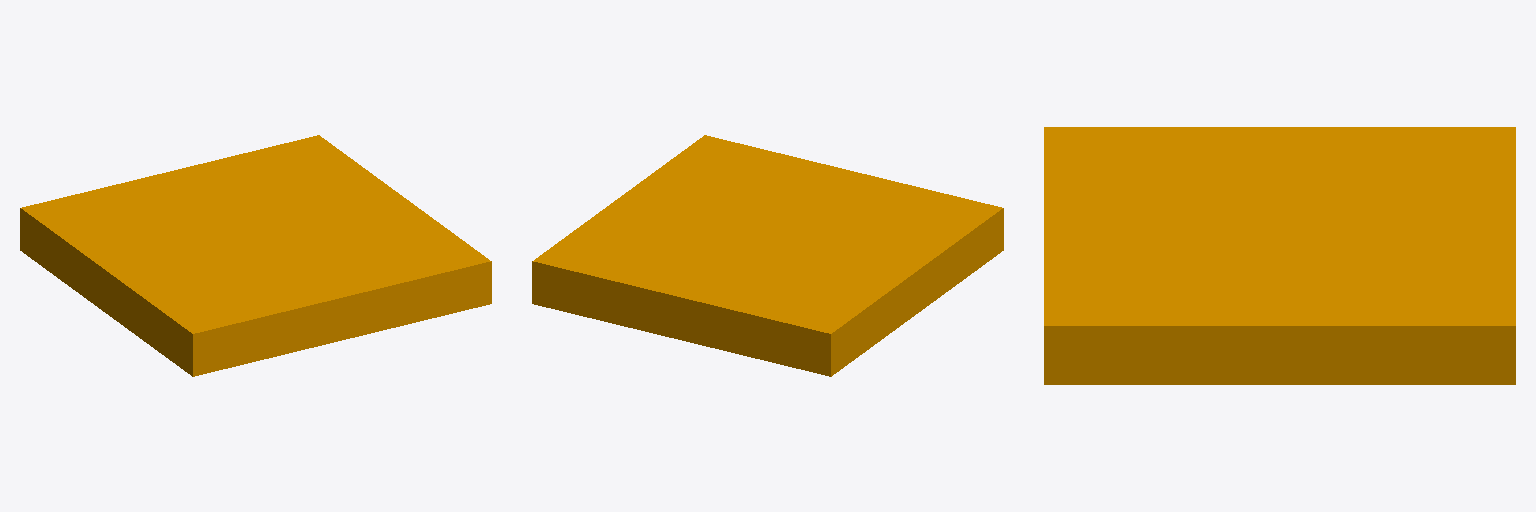
URDF robot description (apriltag_3_3611):
<robot name="apriltag_3_3611">

    <link name="apriltag_link_id3">
        <inertial>
            <origin xyz="0 0 0" rpy="0 0 0"/>
            <mass value="1.0"/>
            <inertia ixx="0.07461" ixy="0.0" ixz="0.0" iyy="0.5854" iyz="0.0" izz="0.02641"/>
        </inertial>
        <collision>
            <origin xyz="0 0 0" rpy="0 0 0"/>
            <geometry>
                <box size="0.2 0.2 0.1"/>
            </geometry>
        </collision>
        <visual>
            <origin xyz="0 0 0" rpy="0 0 0"/>
            <geometry>
                <mesh filename="package://apriltag_description/meshes/apriltag_3.dae"/>
            </geometry>
        </visual>
    </link>
    
    <gazebo reference="apriltag_link_id3">
        <kp>100000.0</kp>
        <kd>100000.0</kd>
        <mu1>0.1</mu1>
        <mu2>0.1</mu2>  
        <fdir1>1 0 0</fdir1>

           <!-- this tag may be unecessary if static is set to true
            (but using since may set static to false later)-->
        <gravity>0</gravity>
    </gazebo>

    <!-- Make sure that the reference="" attribute is not specified -->
    <gazebo>
        <static>true</static>
     
        
    </gazebo>
    

</robot>

--- What the picture shows (computed from the rendered views, not written in the file) ---
The picture shows the robot from 3 angles, left to right: view 1: azimuth 30°, elevation 25°; view 2: azimuth 150°, elevation 25°; view 3: azimuth 270°, elevation 25°; orthographic projection.
Model apriltag_3_3611 with 1 links and 0 joints (none), rooted at apriltag_link_id3, posed all joints at 0.
Links seen in each view (by area): view 1: apriltag_link_id3; view 2: apriltag_link_id3; view 3: apriltag_link_id3.
Boxes of the visible links, x1,y1,x2,y2 form: apriltag_link_id3: [20, 135, 491, 376]; apriltag_link_id3: [532, 135, 1003, 376]; apriltag_link_id3: [1044, 127, 1515, 384].
Bounding box of the posed robot: 0.16 × 0.16 × 0.0219 m (x, y, z).
Meshes: 1 distinct files referenced, 1 mesh visuals loaded (1 Collada DAE).